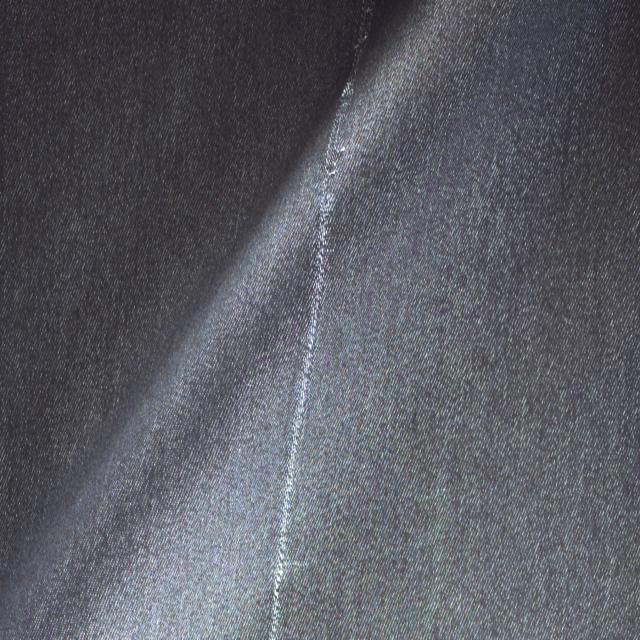pulled_or_thick_thread: (272, 7, 380, 634)
